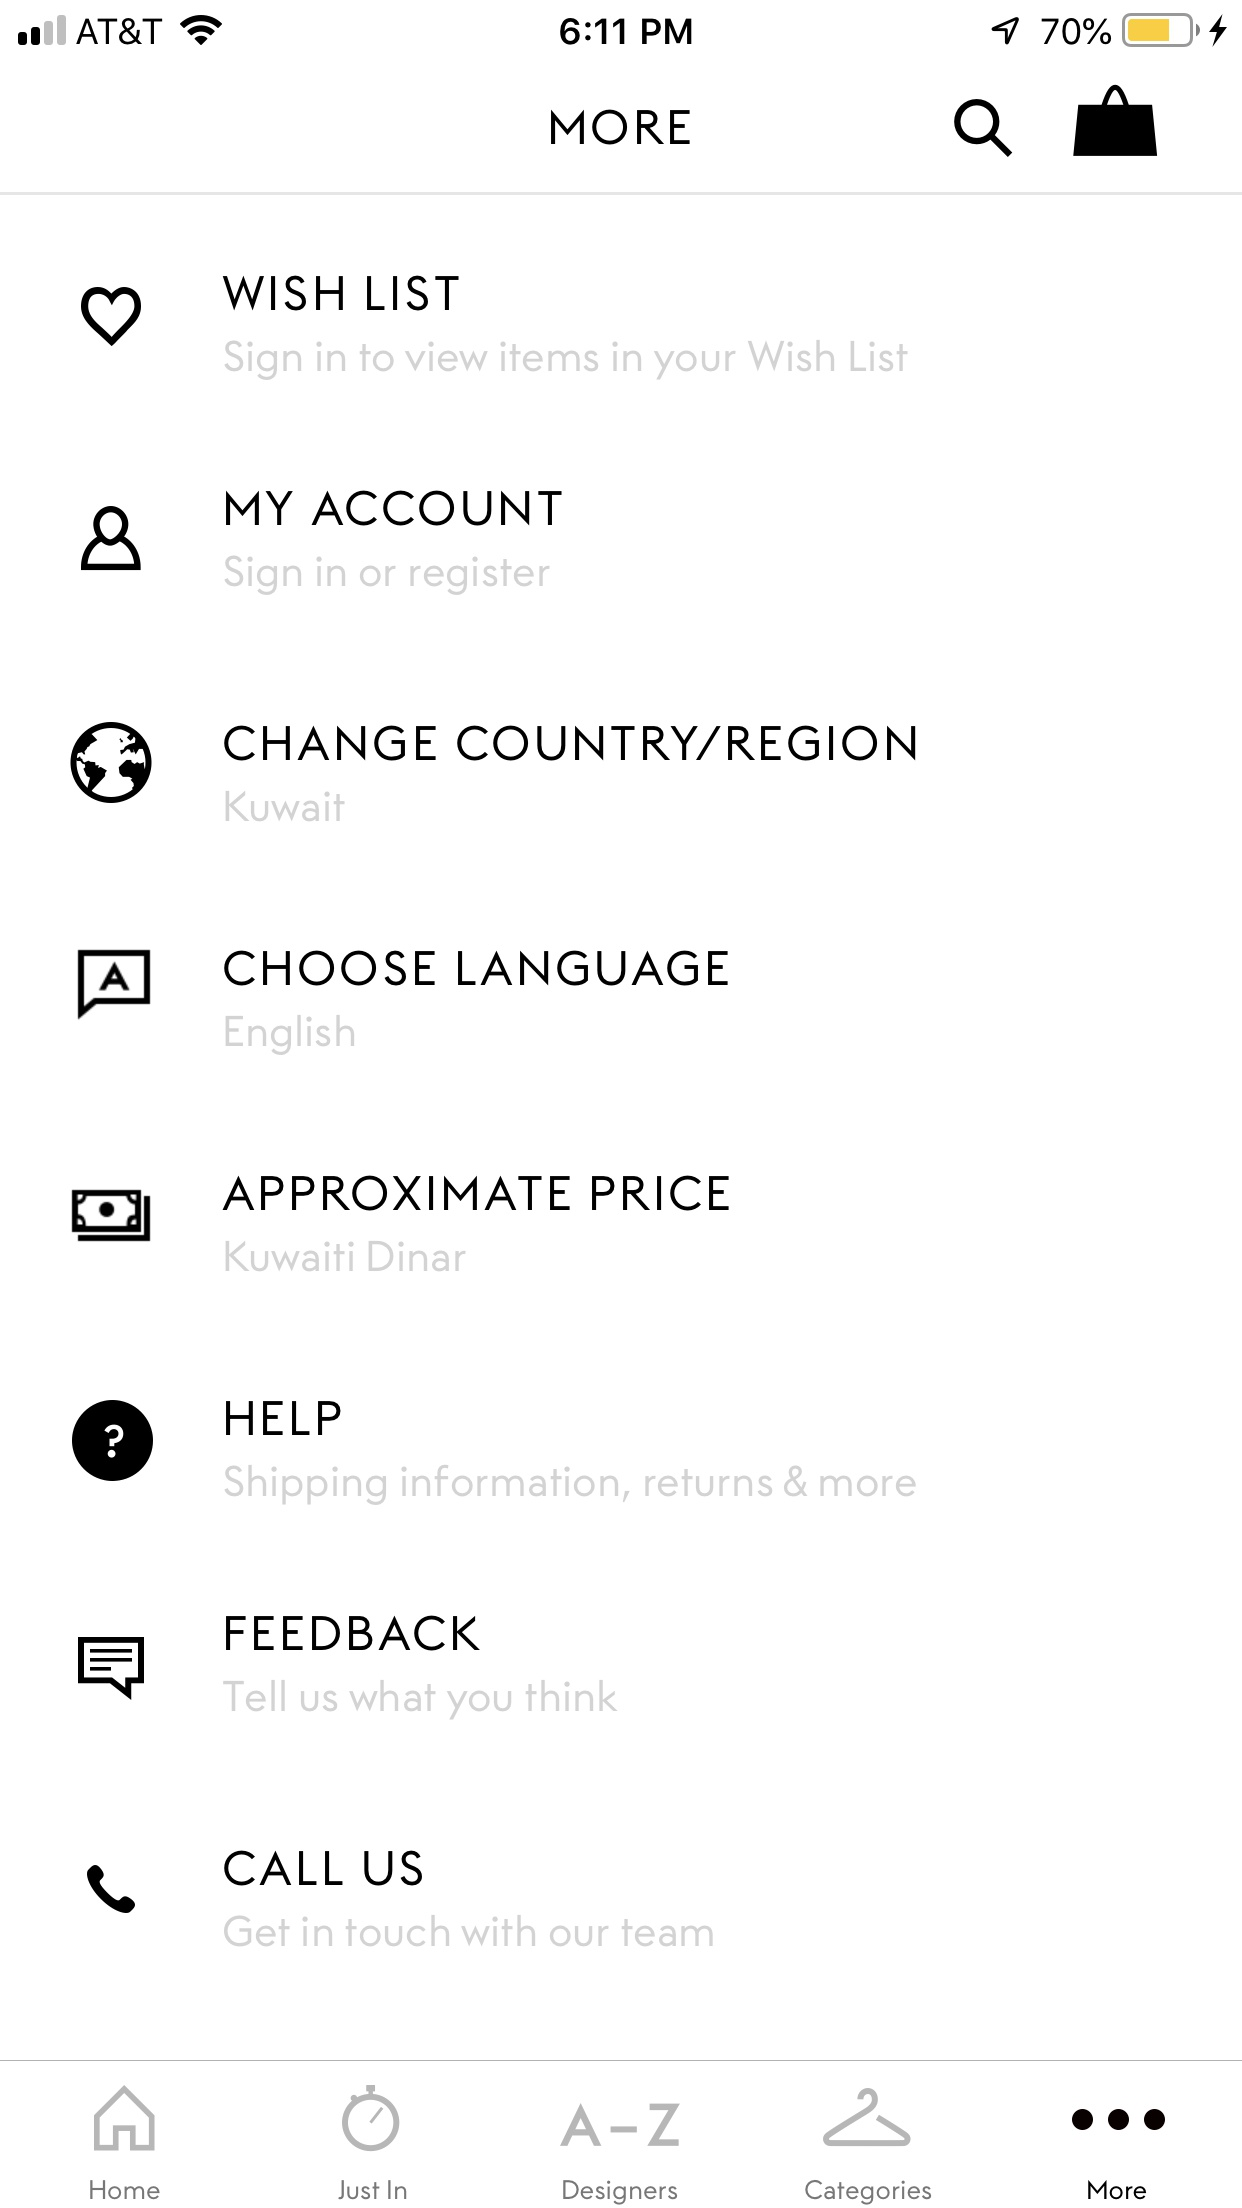Icon: (70, 720, 153, 804), (71, 1400, 155, 1482), (1072, 85, 1159, 158), (560, 2100, 681, 2147), (822, 2087, 911, 2147), (77, 948, 152, 1021), (77, 1636, 146, 1701), (71, 1189, 152, 1244), (94, 2085, 156, 2152), (80, 507, 143, 572), (343, 2084, 400, 2152), (80, 287, 143, 347), (952, 99, 1013, 159), (86, 1864, 136, 1914), (1071, 2108, 1166, 2131)
Text: (224, 1463, 917, 1506), (224, 340, 908, 382), (224, 723, 917, 761), (224, 949, 729, 987), (221, 1175, 729, 1212), (223, 1914, 714, 1949), (223, 1679, 619, 1721), (224, 555, 550, 597), (226, 490, 563, 528), (226, 1615, 481, 1651), (223, 274, 461, 312), (224, 1240, 469, 1272), (224, 1849, 425, 1887), (224, 1015, 355, 1057), (550, 109, 692, 146), (226, 1400, 343, 1438), (224, 792, 347, 823), (804, 2178, 933, 2205), (563, 2179, 679, 2206), (89, 2179, 162, 2200), (338, 2179, 408, 2200), (1087, 2179, 1146, 2200)
UpperTaskBar: (2, 2, 1242, 49)
